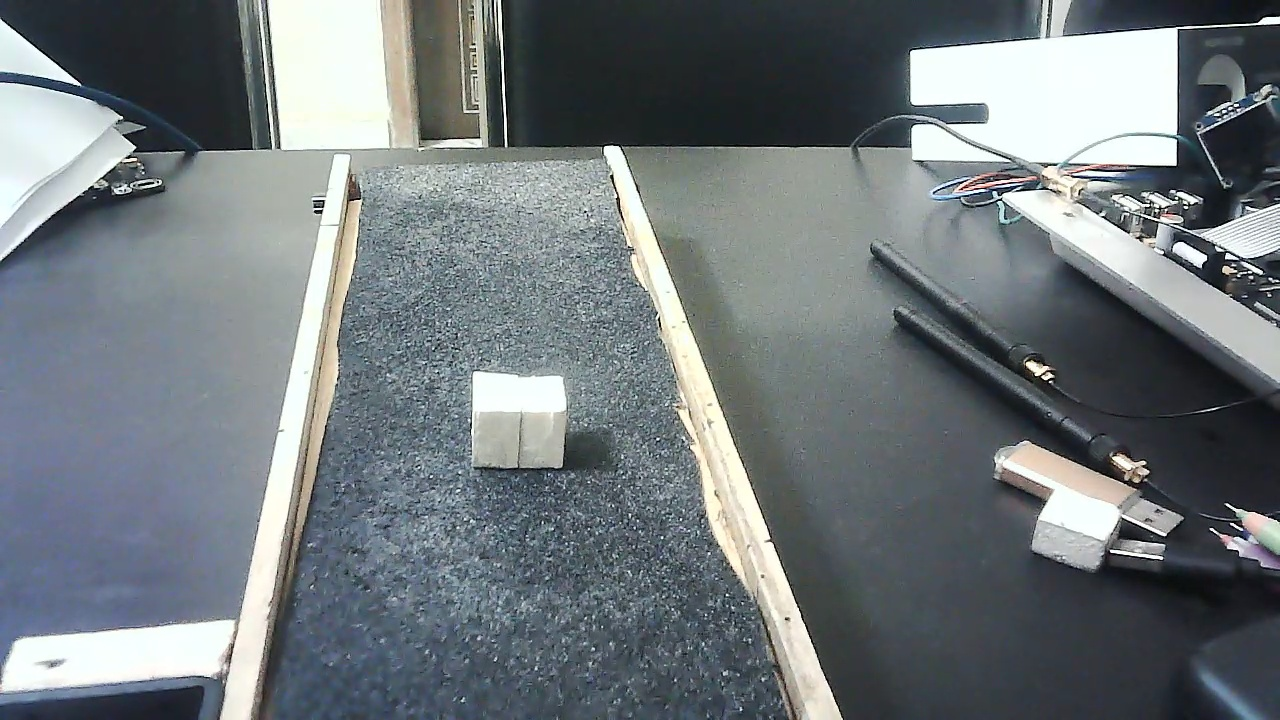Small: (470, 371, 567, 468)
